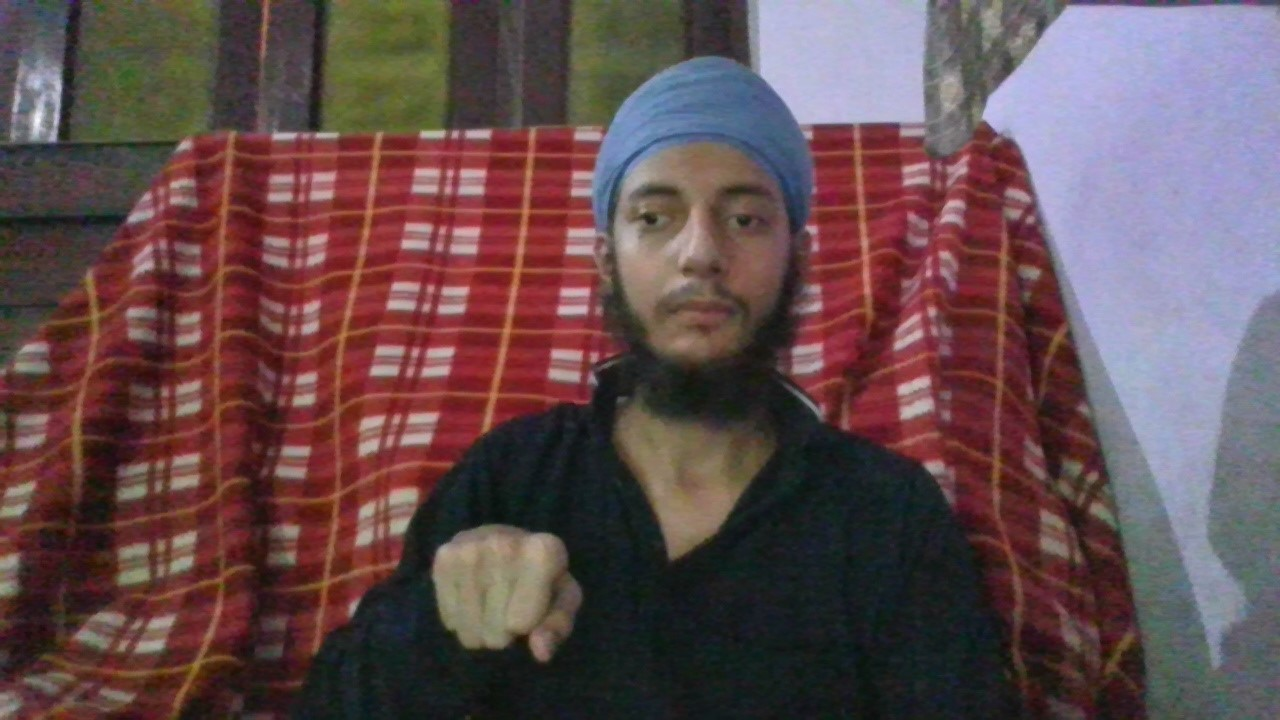Yes: (429, 522, 586, 666)
